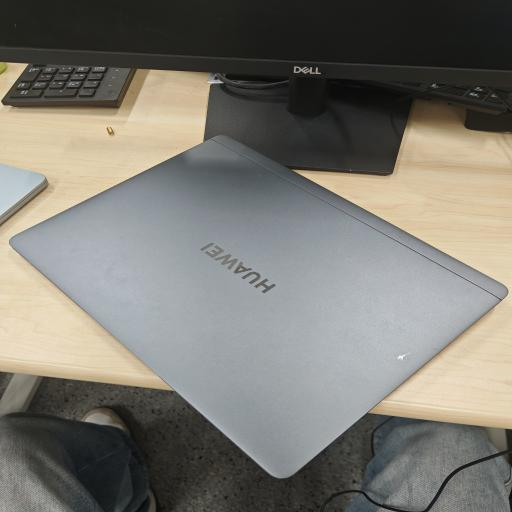laptop: (11, 136, 507, 477), (0, 164, 48, 224)
